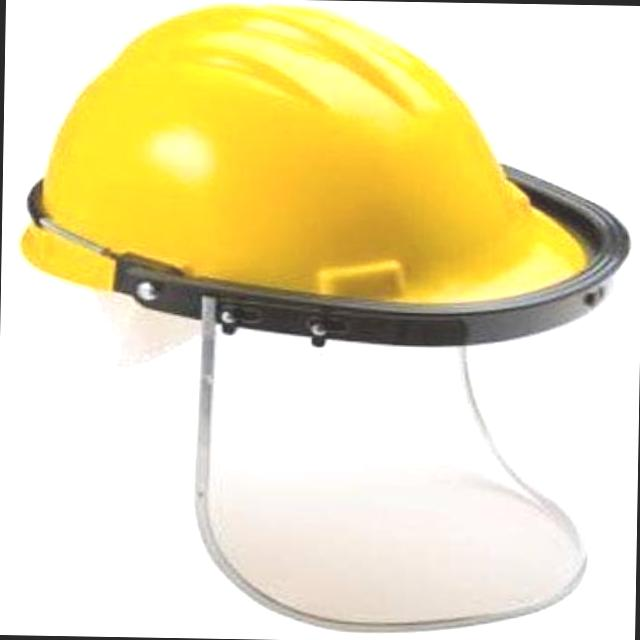helmet: (1, 0, 640, 358)
